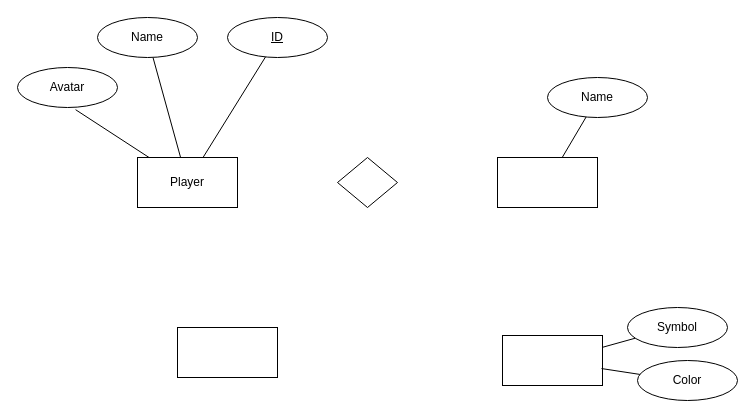
Image size: 755x418. Some labels were removed from this diagram. Each missing label, with the centre of its shape:
"Flags" belongs at (x=552, y=360).
"QR-Codes" belongs at (x=227, y=352).
"Teams" belongs at (x=547, y=182).
